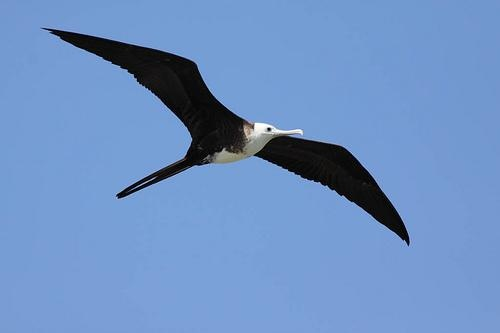bird: (40, 23, 411, 245)
